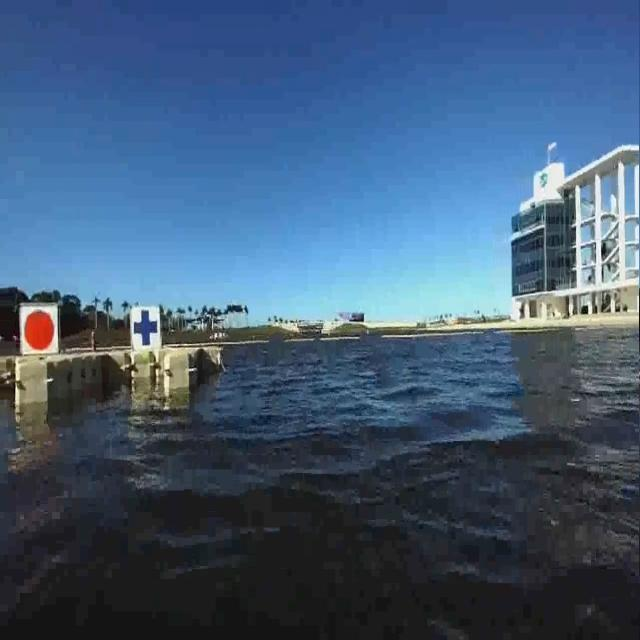blue-cross: (128, 300, 164, 353)
red-dot: (20, 302, 65, 356)
